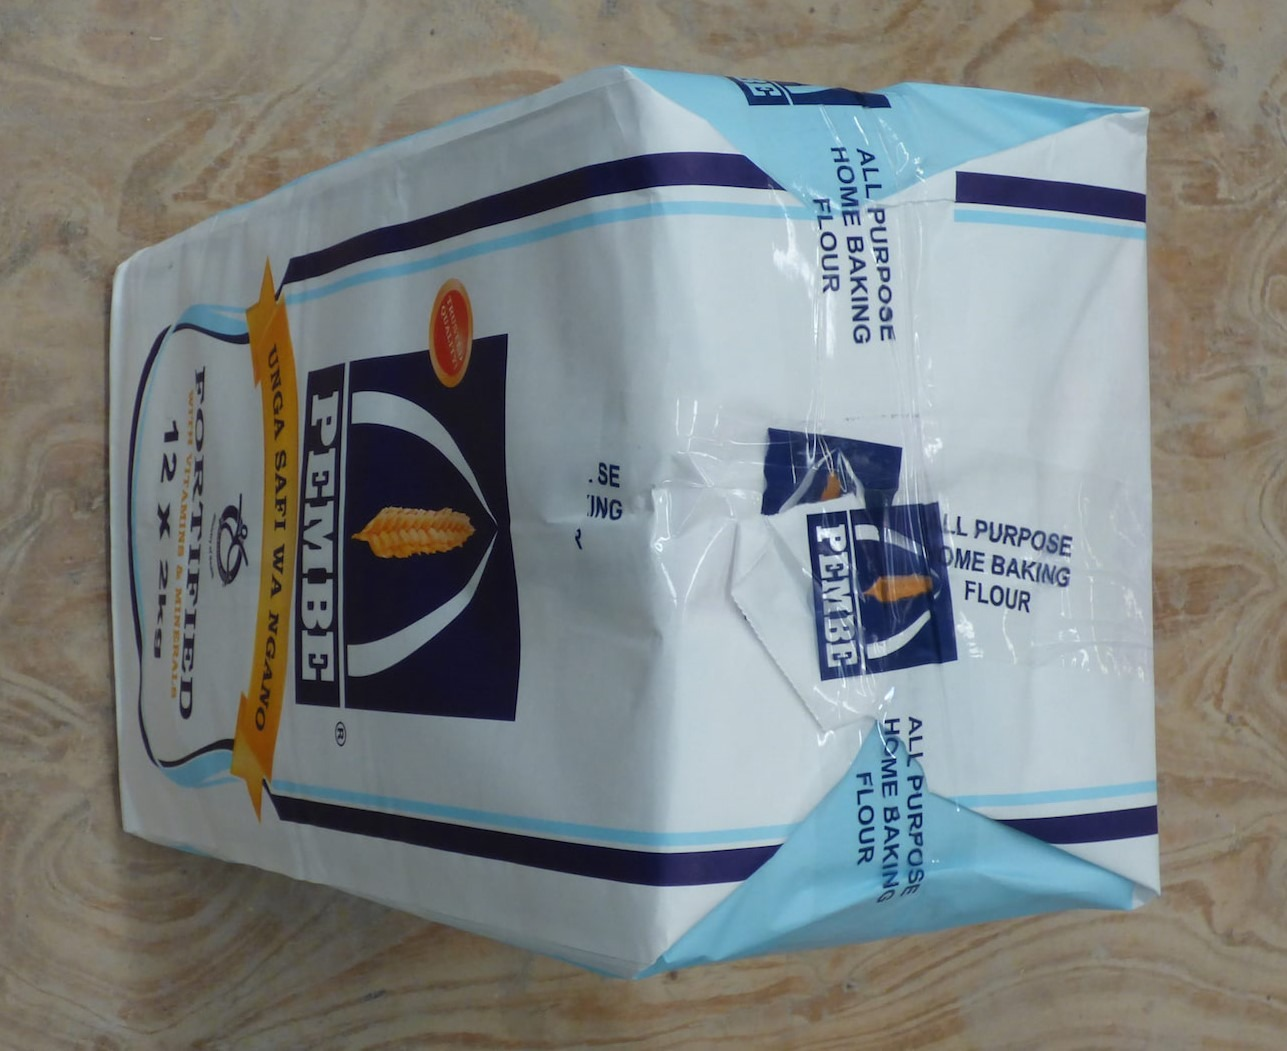wheat_flour_blue_label: (105, 63, 1164, 965)
